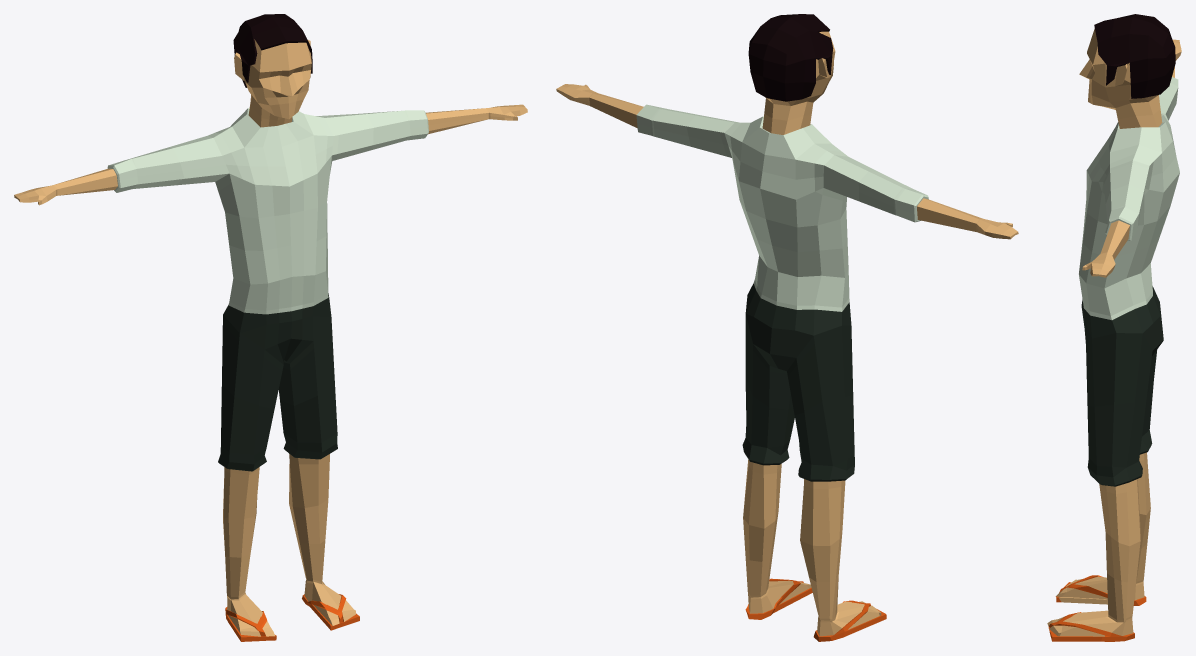
File: LOWPOLY_CHARv2.fbx
3 renders of one model, left to right at view 1: azimuth 30°, elevation 25°; view 2: azimuth 150°, elevation 25°; view 3: azimuth 270°, elevation 25°, orthographic. The views are drawn at different scales.
Visible parts, largest first — view 1: temple4juan; view 2: temple4juan; view 3: temple4juan.
Boxes of the visible parts, x1,y1,x2,y2 form: temple4juan: (14,14,527,641); temple4juan: (556,14,1018,641); temple4juan: (1047,14,1181,641).
Bounding box in the file's own units: 145 × 172 × 34.77.
